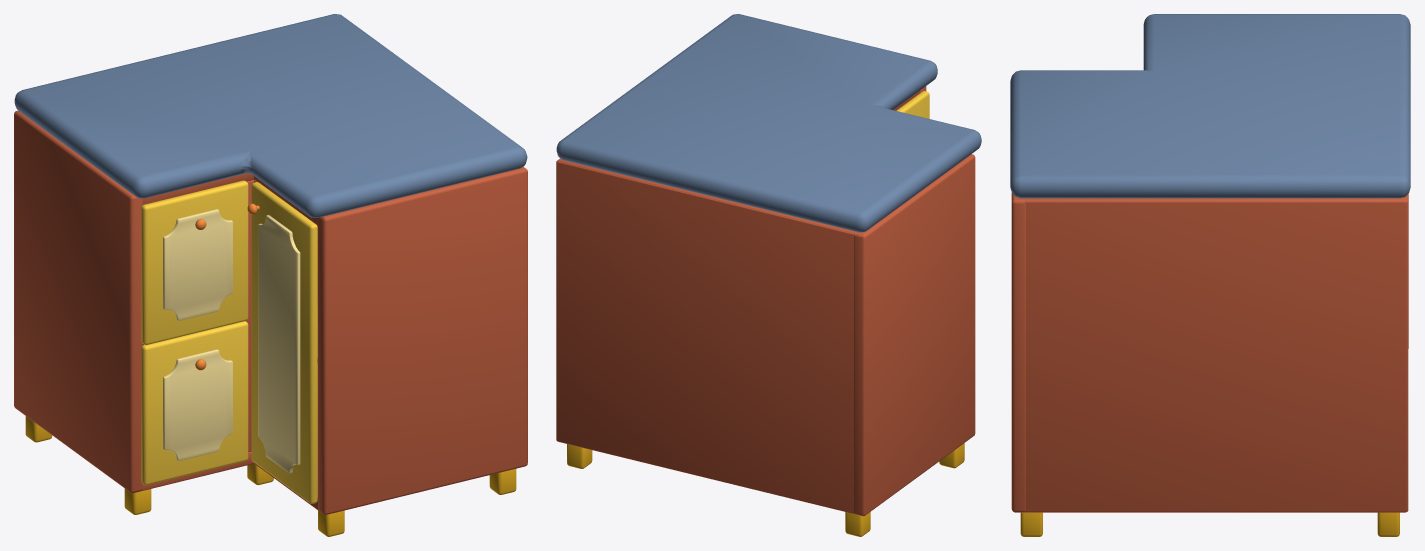
The model's file is armario_cozinha_canto_classica.glb.
3 views of the same model, side by side, from view 1: azimuth 30°, elevation 25°; view 2: azimuth 150°, elevation 25°; view 3: azimuth 270°, elevation 25° (orthographic). The views are drawn at different scales.
Visible parts, largest first — view 1: armario_cozinha_canto_classica, porta_1, gaveta_1, gaveta_2; view 2: armario_cozinha_canto_classica, porta_1; view 3: armario_cozinha_canto_classica.
Boxes of the visible parts, bbox=[...] form: armario_cozinha_canto_classica: bbox=[14, 14, 527, 536]; porta_1: bbox=[247, 182, 317, 503]; gaveta_1: bbox=[141, 180, 248, 344]; gaveta_2: bbox=[141, 321, 248, 485]; armario_cozinha_canto_classica: bbox=[556, 14, 981, 536]; porta_1: bbox=[896, 91, 929, 118]; armario_cozinha_canto_classica: bbox=[1010, 14, 1410, 536].
Size of the model in its own units: 0.898 by 0.9 by 0.899.
Materials: 1 (1 with a texture image).
